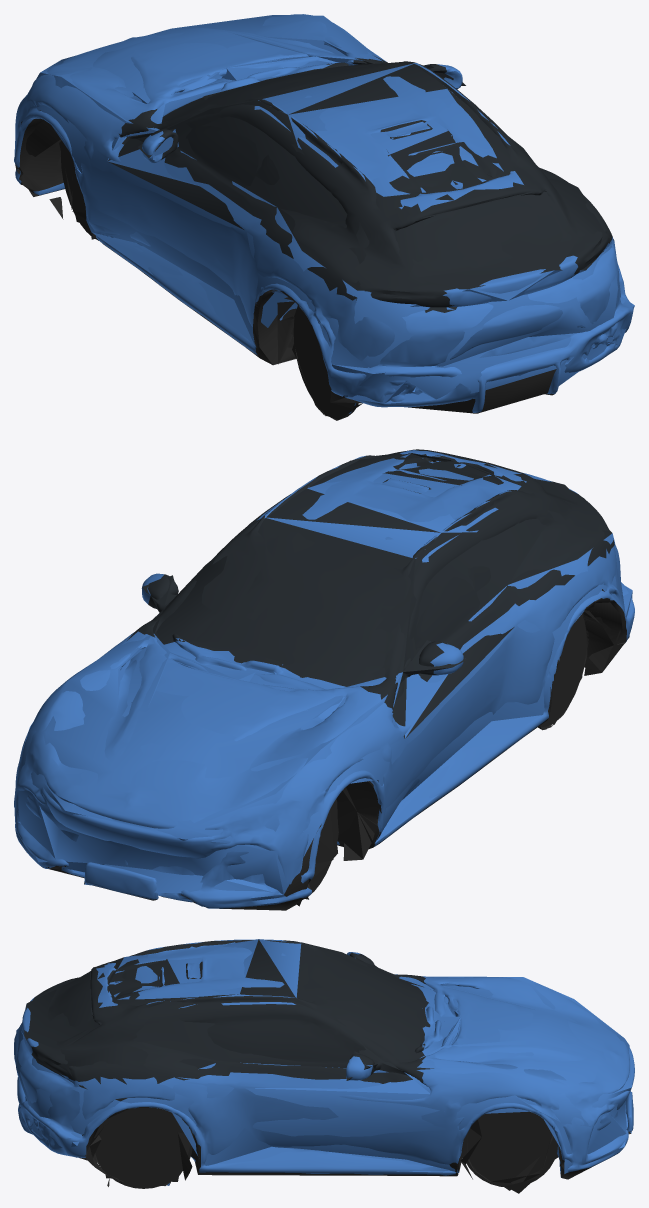
File: ferrari-purosangue.glb
3 renders of one model, top to bottom at view 1: azimuth 30°, elevation 25°; view 2: azimuth 150°, elevation 25°; view 3: azimuth 270°, elevation 25°, orthographic. The views are drawn at different scales.
Parts seen in each view (by area): view 1: body, far; view 2: body, far; view 3: body, far.
Boxes of the visible parts, x1,y1,x2,y2 form: body: (14, 14, 633, 420); far: (14, 15, 634, 419); body: (14, 449, 634, 910); far: (16, 453, 632, 906); body: (14, 939, 634, 1190); far: (16, 939, 631, 1193).
Size of the model in its own units: 2.28 by 1.64 by 5.04.
